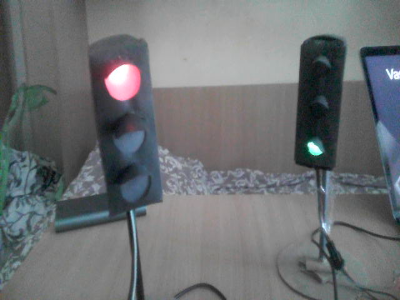trafficlight_green: (297, 44, 344, 162)
trafficlight_red: (91, 50, 161, 204)
